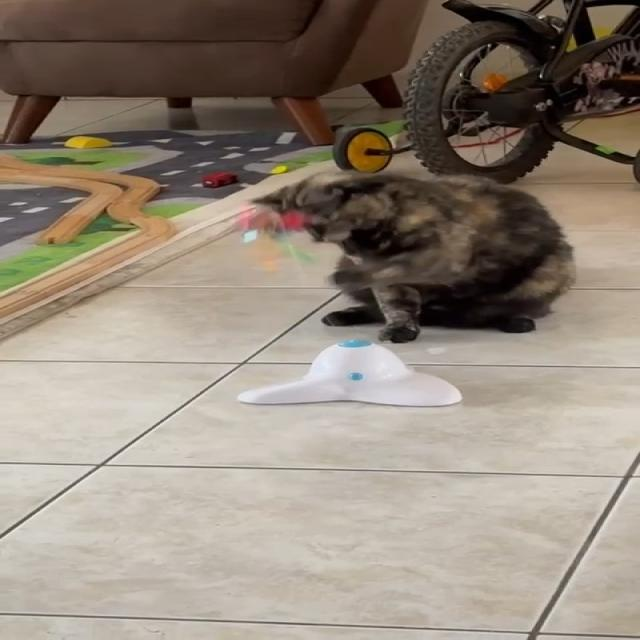authorized: (247, 168, 576, 344)
